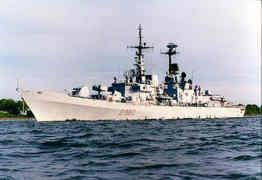warship: (14, 23, 247, 125)
